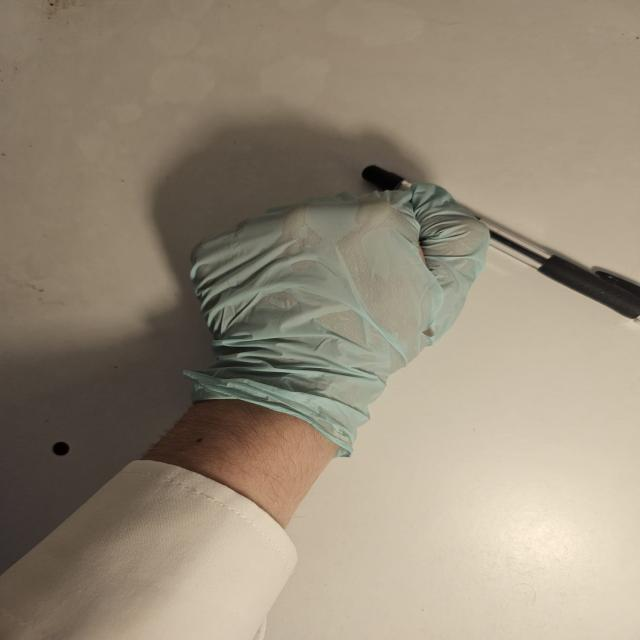gloves_damaged: (167, 180, 496, 462)
